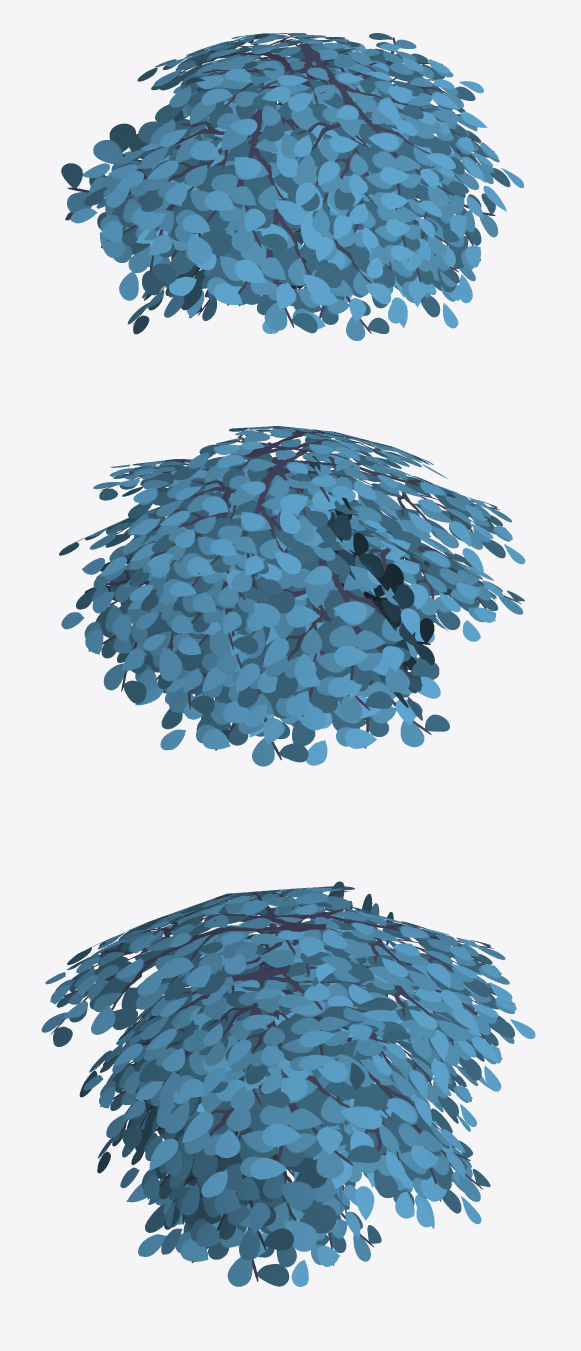
File: LushBush_01.fbx
3 views of the same model, one above another, from view 1: azimuth 30°, elevation 25°; view 2: azimuth 150°, elevation 25°; view 3: azimuth 270°, elevation 25° (orthographic). The views are drawn at different scales.
Visible parts, largest first — view 1: lushleaf_A; view 2: lushleaf_A; view 3: lushleaf_A.
Part boxes in pixels (x1,y1,x2,y2): lushleaf_A: (61,33,523,340); lushleaf_A: (59,426,525,766); lushleaf_A: (41,881,535,1286).
Bounding box in the file's own units: 238 × 169 × 205.
